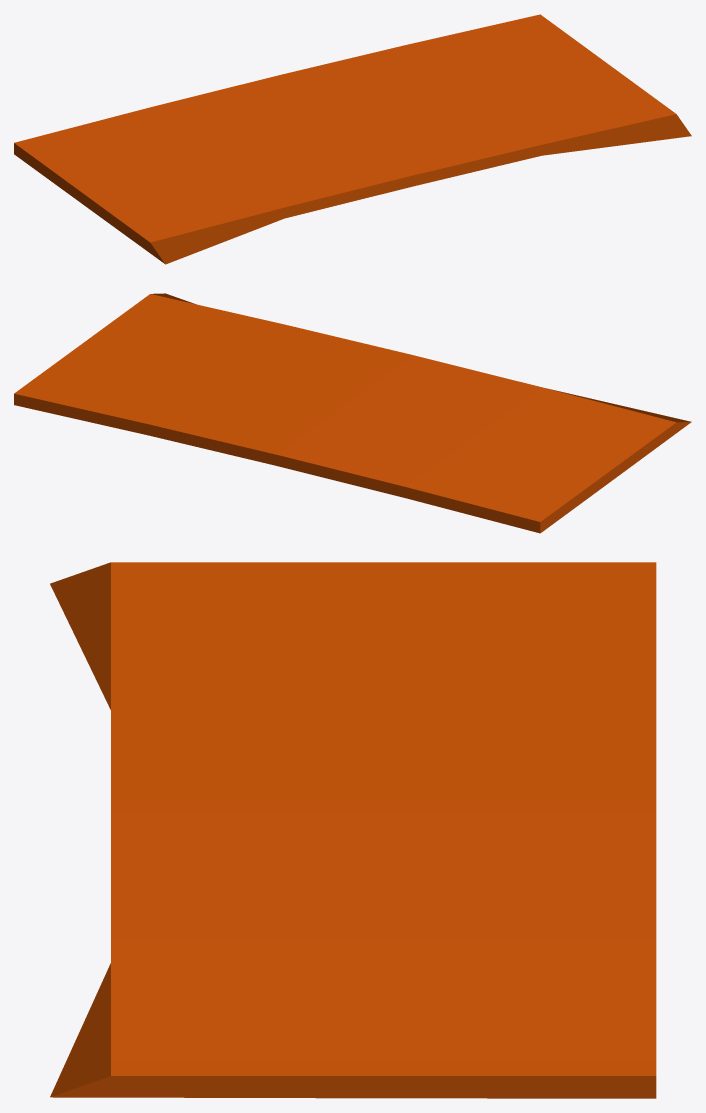
Rendered from brute_500_boot.glb.
3 renders of one model, top to bottom at view 1: azimuth 30°, elevation 25°; view 2: azimuth 150°, elevation 25°; view 3: azimuth 270°, elevation 25°, orthographic. The views are drawn at different scales.
Parts seen in each view (by area): view 1: brute_500_boot; view 2: brute_500_boot; view 3: brute_500_boot.
Part boxes in pixels (x1=…): brute_500_boot: x1=14, y1=14, x2=691, y2=264; brute_500_boot: x1=14, y1=293, x2=691, y2=533; brute_500_boot: x1=50, y1=562, x2=656, y2=1098.
Size of the model in its own units: 1.49 by 0.0388 by 0.7416.
